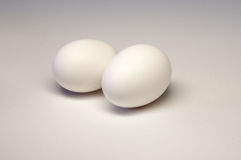Egg: (99, 43, 174, 111)
